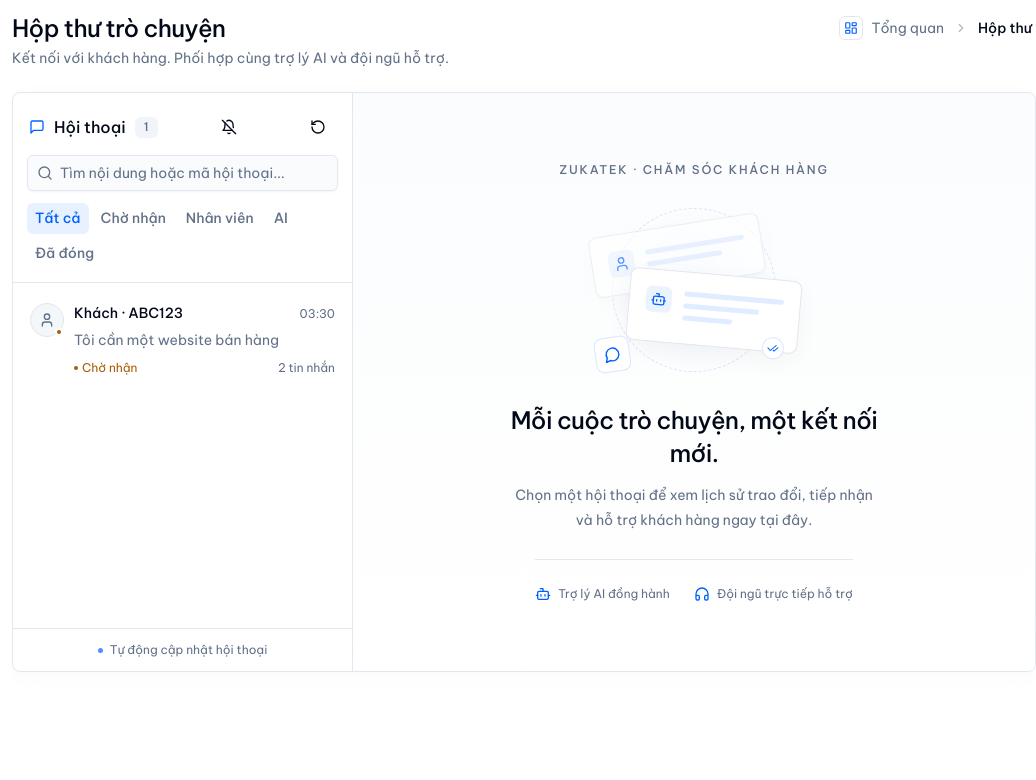
Test: Chat inbox workspace › preserves the selected transcript after ending a chat removes it from the live queue
Click the button with test id "chat-inbox-row" at (182,340), box [20,290,345,390]
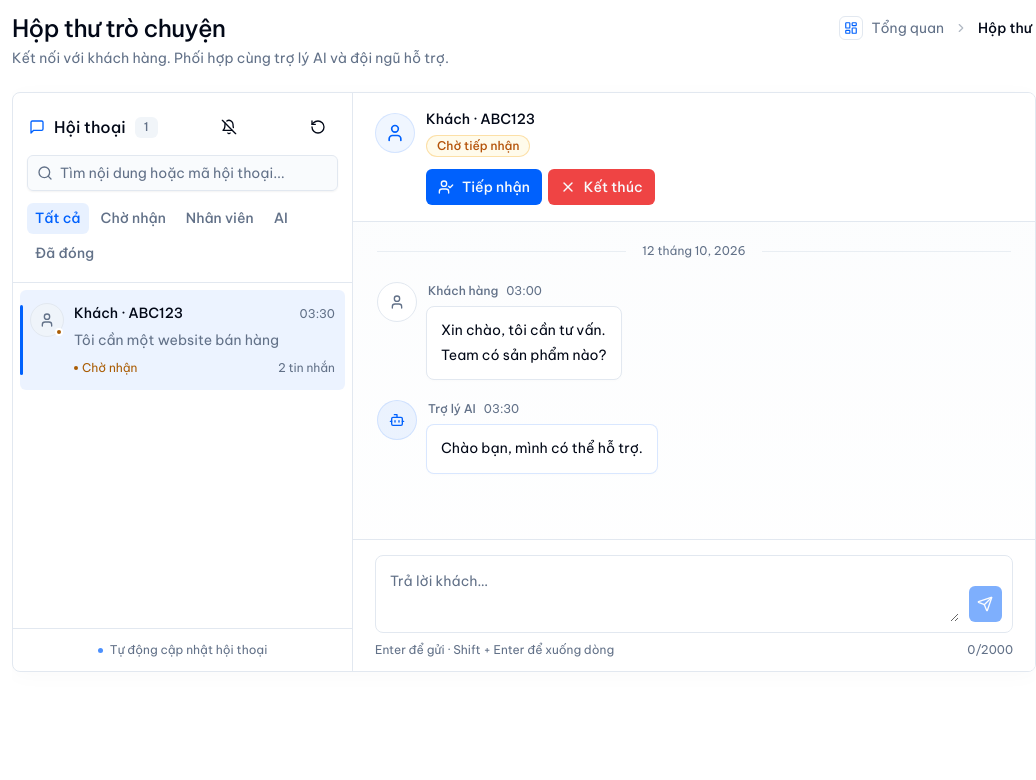
Now the text "Chào bạn, mình có thể hỗ trợ." is shown, box [441,439,643,457]
Click the button "Kết thúc" at (601,187), box [548,169,655,205]
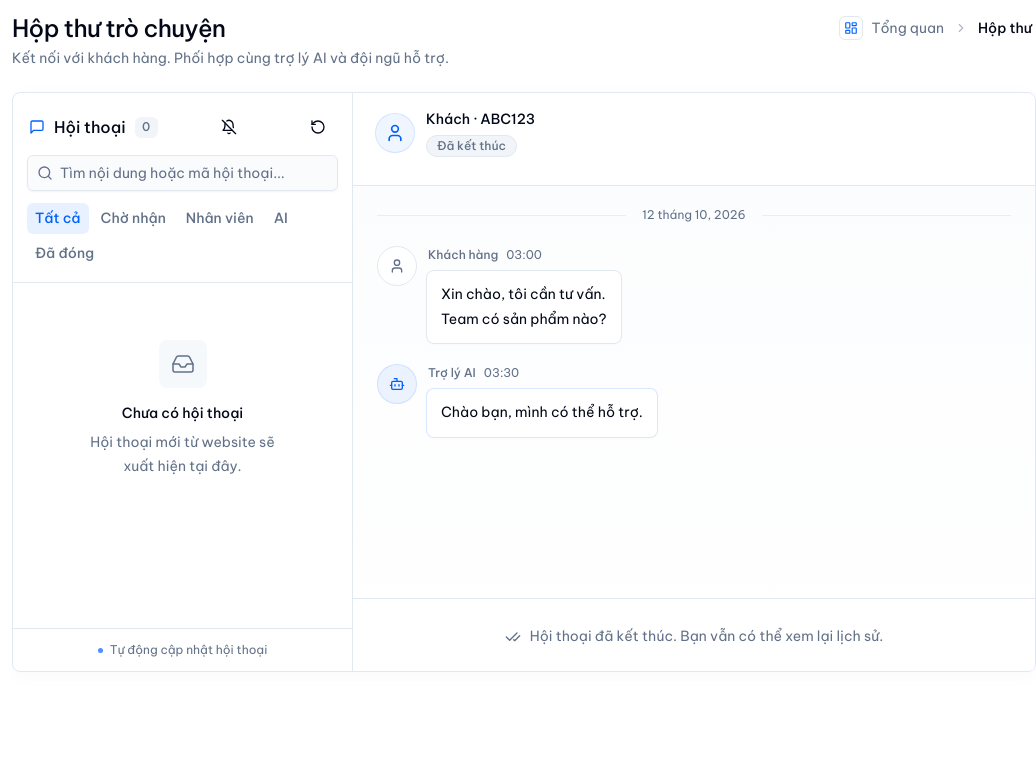
Now the text "Chào bạn, mình có thể hỗ trợ." is shown, box [441,403,643,421]
Now the text "Hội thoại đã kết thúc. Bạn vẫn có thể xem lại lịch sử." is shown, box [505,627,883,645]
Now no buttons with test id "chat-inbox-row" are shown
